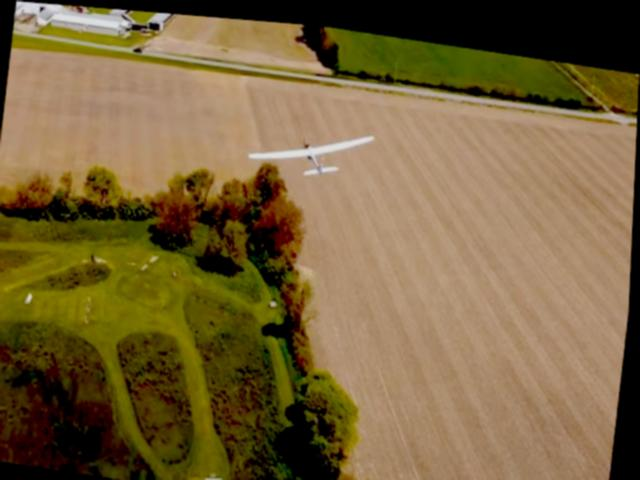iha: (248, 110, 373, 179)
